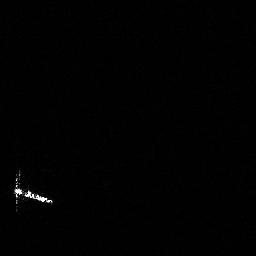ship: (13, 187, 53, 204)
